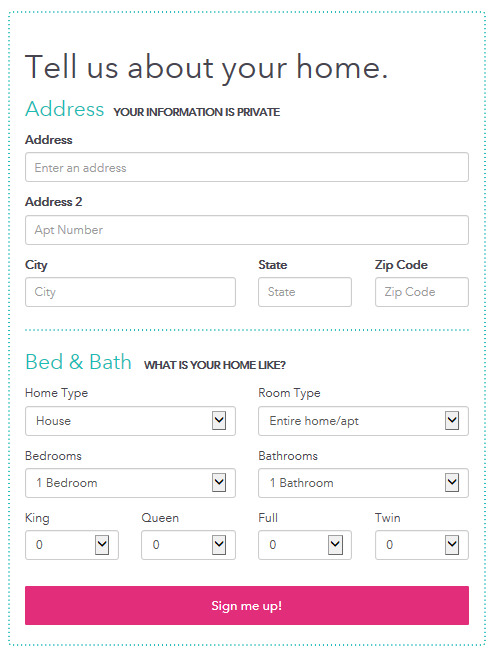_form_: (18, 8, 482, 338), (15, 305, 479, 635)
button: (23, 585, 471, 626)
field: (23, 151, 469, 183), (23, 215, 469, 246), (22, 404, 237, 438), (255, 404, 471, 437), (22, 276, 237, 309), (22, 467, 236, 499), (256, 467, 470, 499), (139, 529, 236, 562), (23, 530, 120, 562), (256, 529, 353, 561), (373, 529, 470, 561), (256, 276, 351, 308), (373, 277, 468, 308)
field_with_label: (22, 196, 472, 248), (21, 134, 471, 184), (254, 387, 475, 439), (254, 450, 474, 502), (20, 388, 240, 439), (20, 259, 239, 310), (19, 450, 238, 501), (137, 511, 239, 563), (22, 511, 122, 564), (370, 512, 473, 562), (371, 259, 471, 310), (253, 513, 355, 563), (254, 259, 353, 309)
